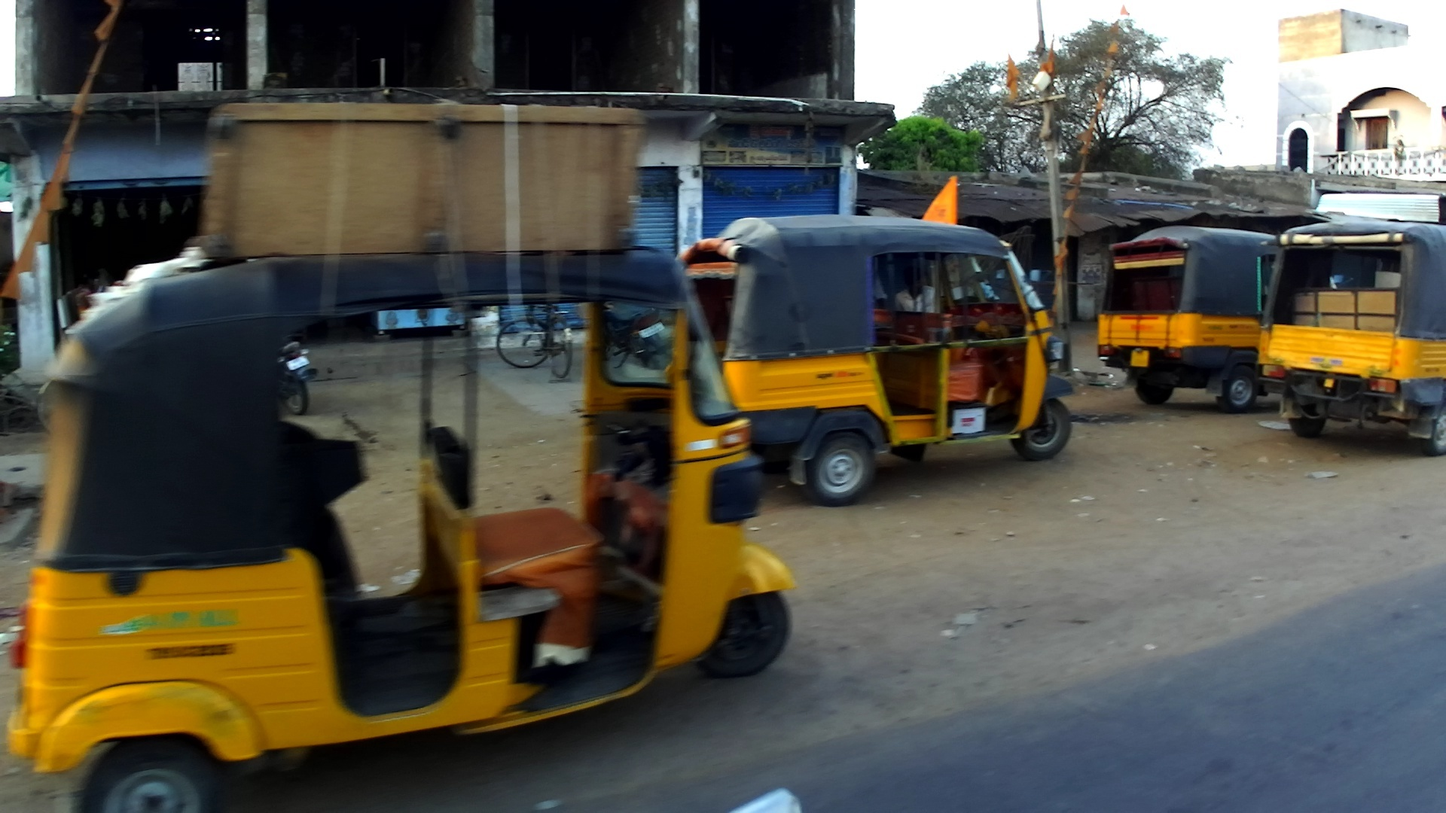autorickshaw: (1, 245, 794, 813), (673, 174, 1075, 507), (1256, 217, 1446, 458), (1094, 224, 1278, 416)
